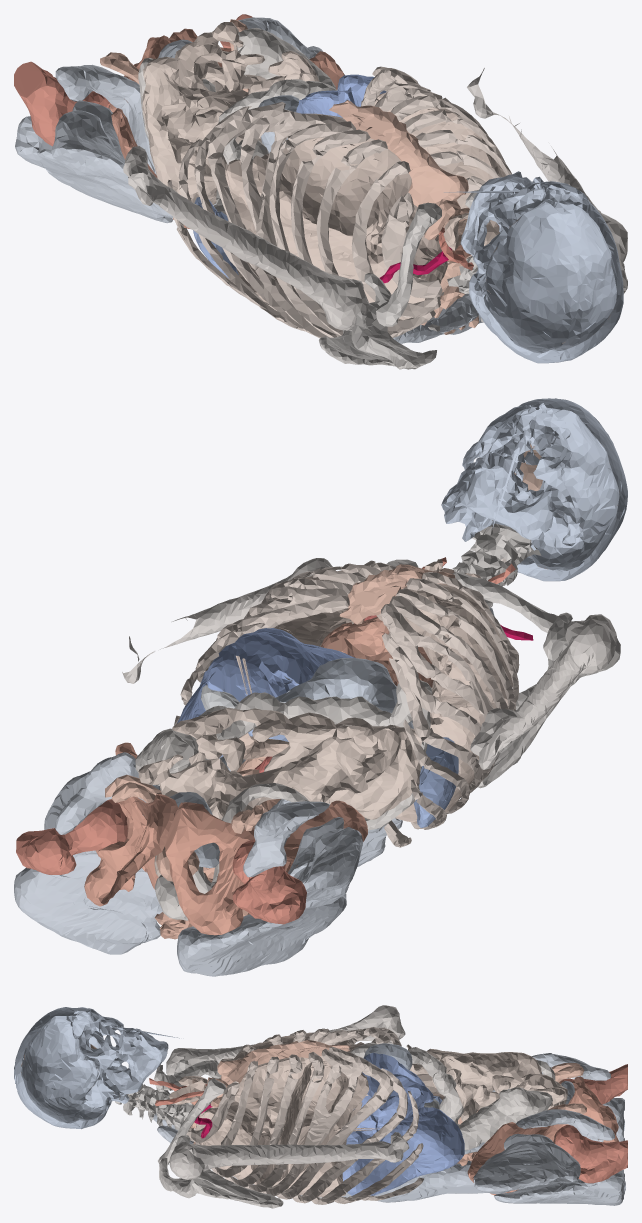
Rendered from ct-whole-body.glb.
3 renders of one model, top to bottom at view 1: azimuth 30°, elevation 25°; view 2: azimuth 150°, elevation 25°; view 3: azimuth 270°, elevation 25°, orthographic. The views are drawn at different scales.
Parts seen in each view (by area): view 1: skull, small_bowel, lung_upper_lobe_left, costal_cartilages, humerus_left, sternum, colon, gluteus_medius_left, scapula_left, iliopsoas_left, femur_left, gluteus_maximus_left (+27 smaller); view 2: skull, small_bowel, costal_cartilages, colon, gluteus_maximus_right, hip_left, liver, gluteus_maximus_left, humerus_left, hip_right, femur_right, lung_upper_lobe_left (+26 smaller); view 3: skull, liver, small_bowel, humerus_right, colon, lung_upper_lobe_right, costal_cartilages, gluteus_medius_right, gluteus_maximus_right, femur_right, scapula_right, hip_right (+30 smaller).
Part boxes in pixels (x1=…): skull: x1=444, y1=171, x2=623, y2=363; small_bowel: x1=142, y1=22, x2=319, y2=204; lung_upper_lobe_left: x1=226, y1=137, x2=447, y2=320; costal_cartilages: x1=167, y1=66, x2=482, y2=221; humerus_left: x1=123, y1=146, x2=369, y2=330; sternum: x1=329, y1=100, x2=468, y2=206; colon: x1=138, y1=27, x2=336, y2=215; gluteus_medius_left: x1=51, y1=110, x2=172, y2=217; scapula_left: x1=319, y1=273, x2=439, y2=369; iliopsoas_left: x1=55, y1=64, x2=156, y2=174; femur_left: x1=14, y1=61, x2=110, y2=146; gluteus_maximus_left: x1=15, y1=116, x2=173, y2=223; skull: x1=441, y1=398, x2=627, y2=581; small_bowel: x1=138, y1=707, x2=421, y2=876; costal_cartilages: x1=174, y1=562, x2=462, y2=800; colon: x1=135, y1=680, x2=432, y2=920; gluteus_maximus_right: x1=14, y1=854, x2=162, y2=954; hip_left: x1=165, y1=800, x2=367, y2=935; liver: x1=177, y1=628, x2=355, y2=758; gluteus_maximus_left: x1=177, y1=893, x2=346, y2=976; humerus_left: x1=470, y1=614, x2=616, y2=769; hip_right: x1=84, y1=742, x2=177, y2=906; femur_right: x1=16, y1=799, x2=132, y2=874; lung_upper_lobe_left: x1=376, y1=584, x2=512, y2=708; skull: x1=14, y1=1007, x2=181, y2=1129; liver: x1=342, y1=1052, x2=464, y2=1195; small_bowel: x1=409, y1=1048, x2=567, y2=1121; humerus_right: x1=169, y1=1132, x2=409, y2=1179; colon: x1=350, y1=1042, x2=555, y2=1150; lung_upper_lobe_right: x1=195, y1=1057, x2=311, y2=1184; costal_cartilages: x1=226, y1=1027, x2=423, y2=1155; gluteus_medius_right: x1=473, y1=1141, x2=580, y2=1193; gluteus_maximus_right: x1=494, y1=1169, x2=625, y2=1205; femur_right: x1=555, y1=1125, x2=627, y2=1183; scapula_right: x1=159, y1=1135, x2=283, y2=1208; hip_right: x1=467, y1=1085, x2=618, y2=1195.
Bounding box in the file's own units: 437 × 293 × 914.
